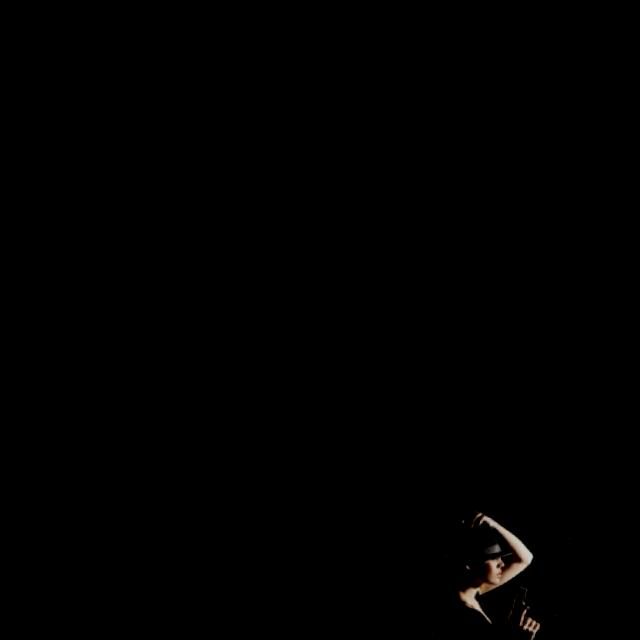handgun: (212, 167, 229, 187)
